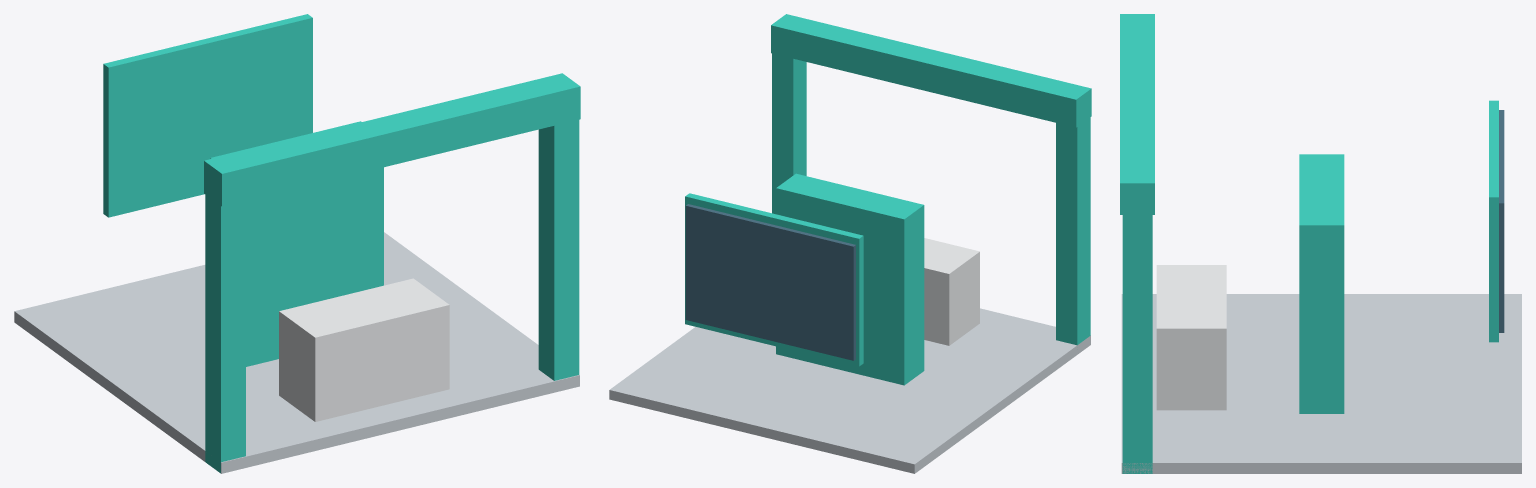
3 renders of one model, left to right at view 1: azimuth 30°, elevation 25°; view 2: azimuth 150°, elevation 25°; view 3: azimuth 270°, elevation 25°, orthographic. The views are drawn at different scales.
Visible parts, largest first — view 1: Exhibition Booth Concept; view 2: Exhibition Booth Concept; view 3: Exhibition Booth Concept.
Part boxes in pixels (<box>): Exhibition Booth Concept: <box>14,14,580,473</box>; Exhibition Booth Concept: <box>609,14,1091,473</box>; Exhibition Booth Concept: <box>1120,14,1521,473</box>.
Size of the model in its own units: 4 by 3.2 by 4.02.
